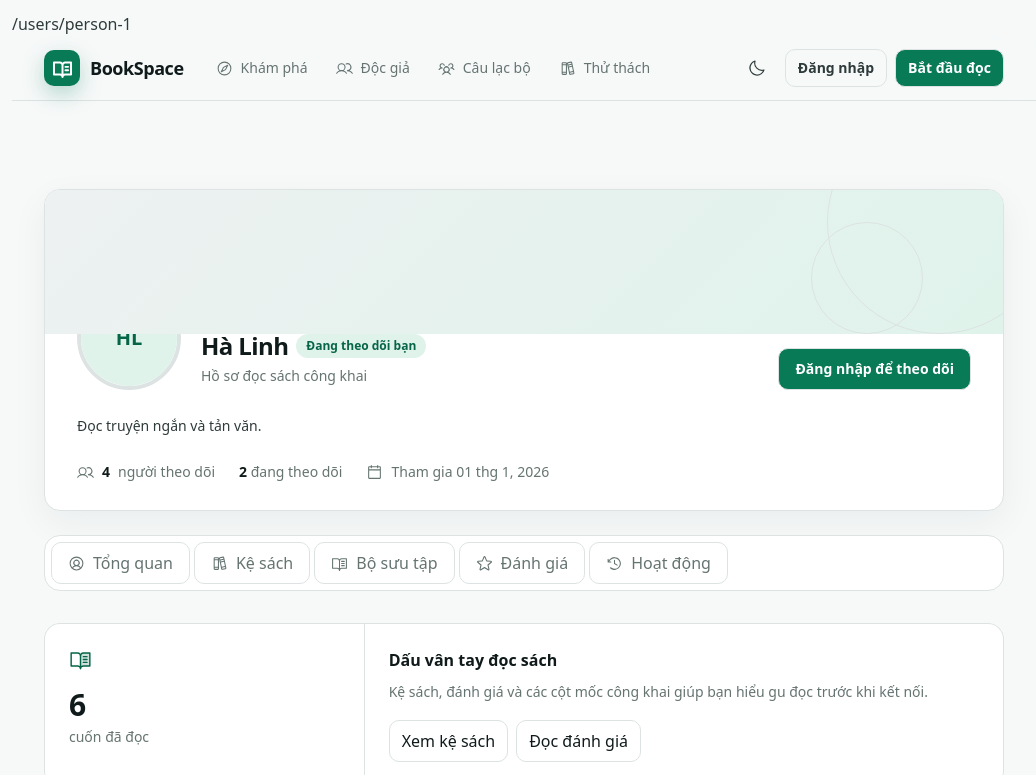
Test: production public profile route › does not request a private shelf for another viewer
Click the button "Kệ sách".
click(252, 563)  # box [194, 542, 310, 584]
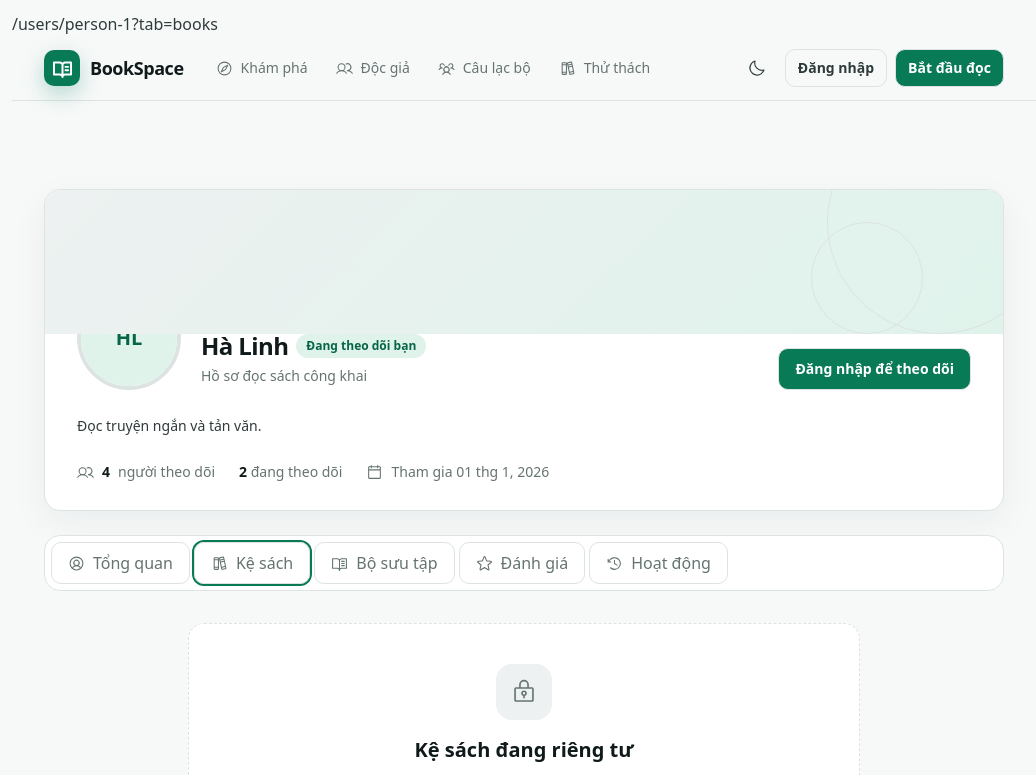
Expected: the heading "Kệ sách đang riêng tư" is shown, [414, 736, 633, 763]
